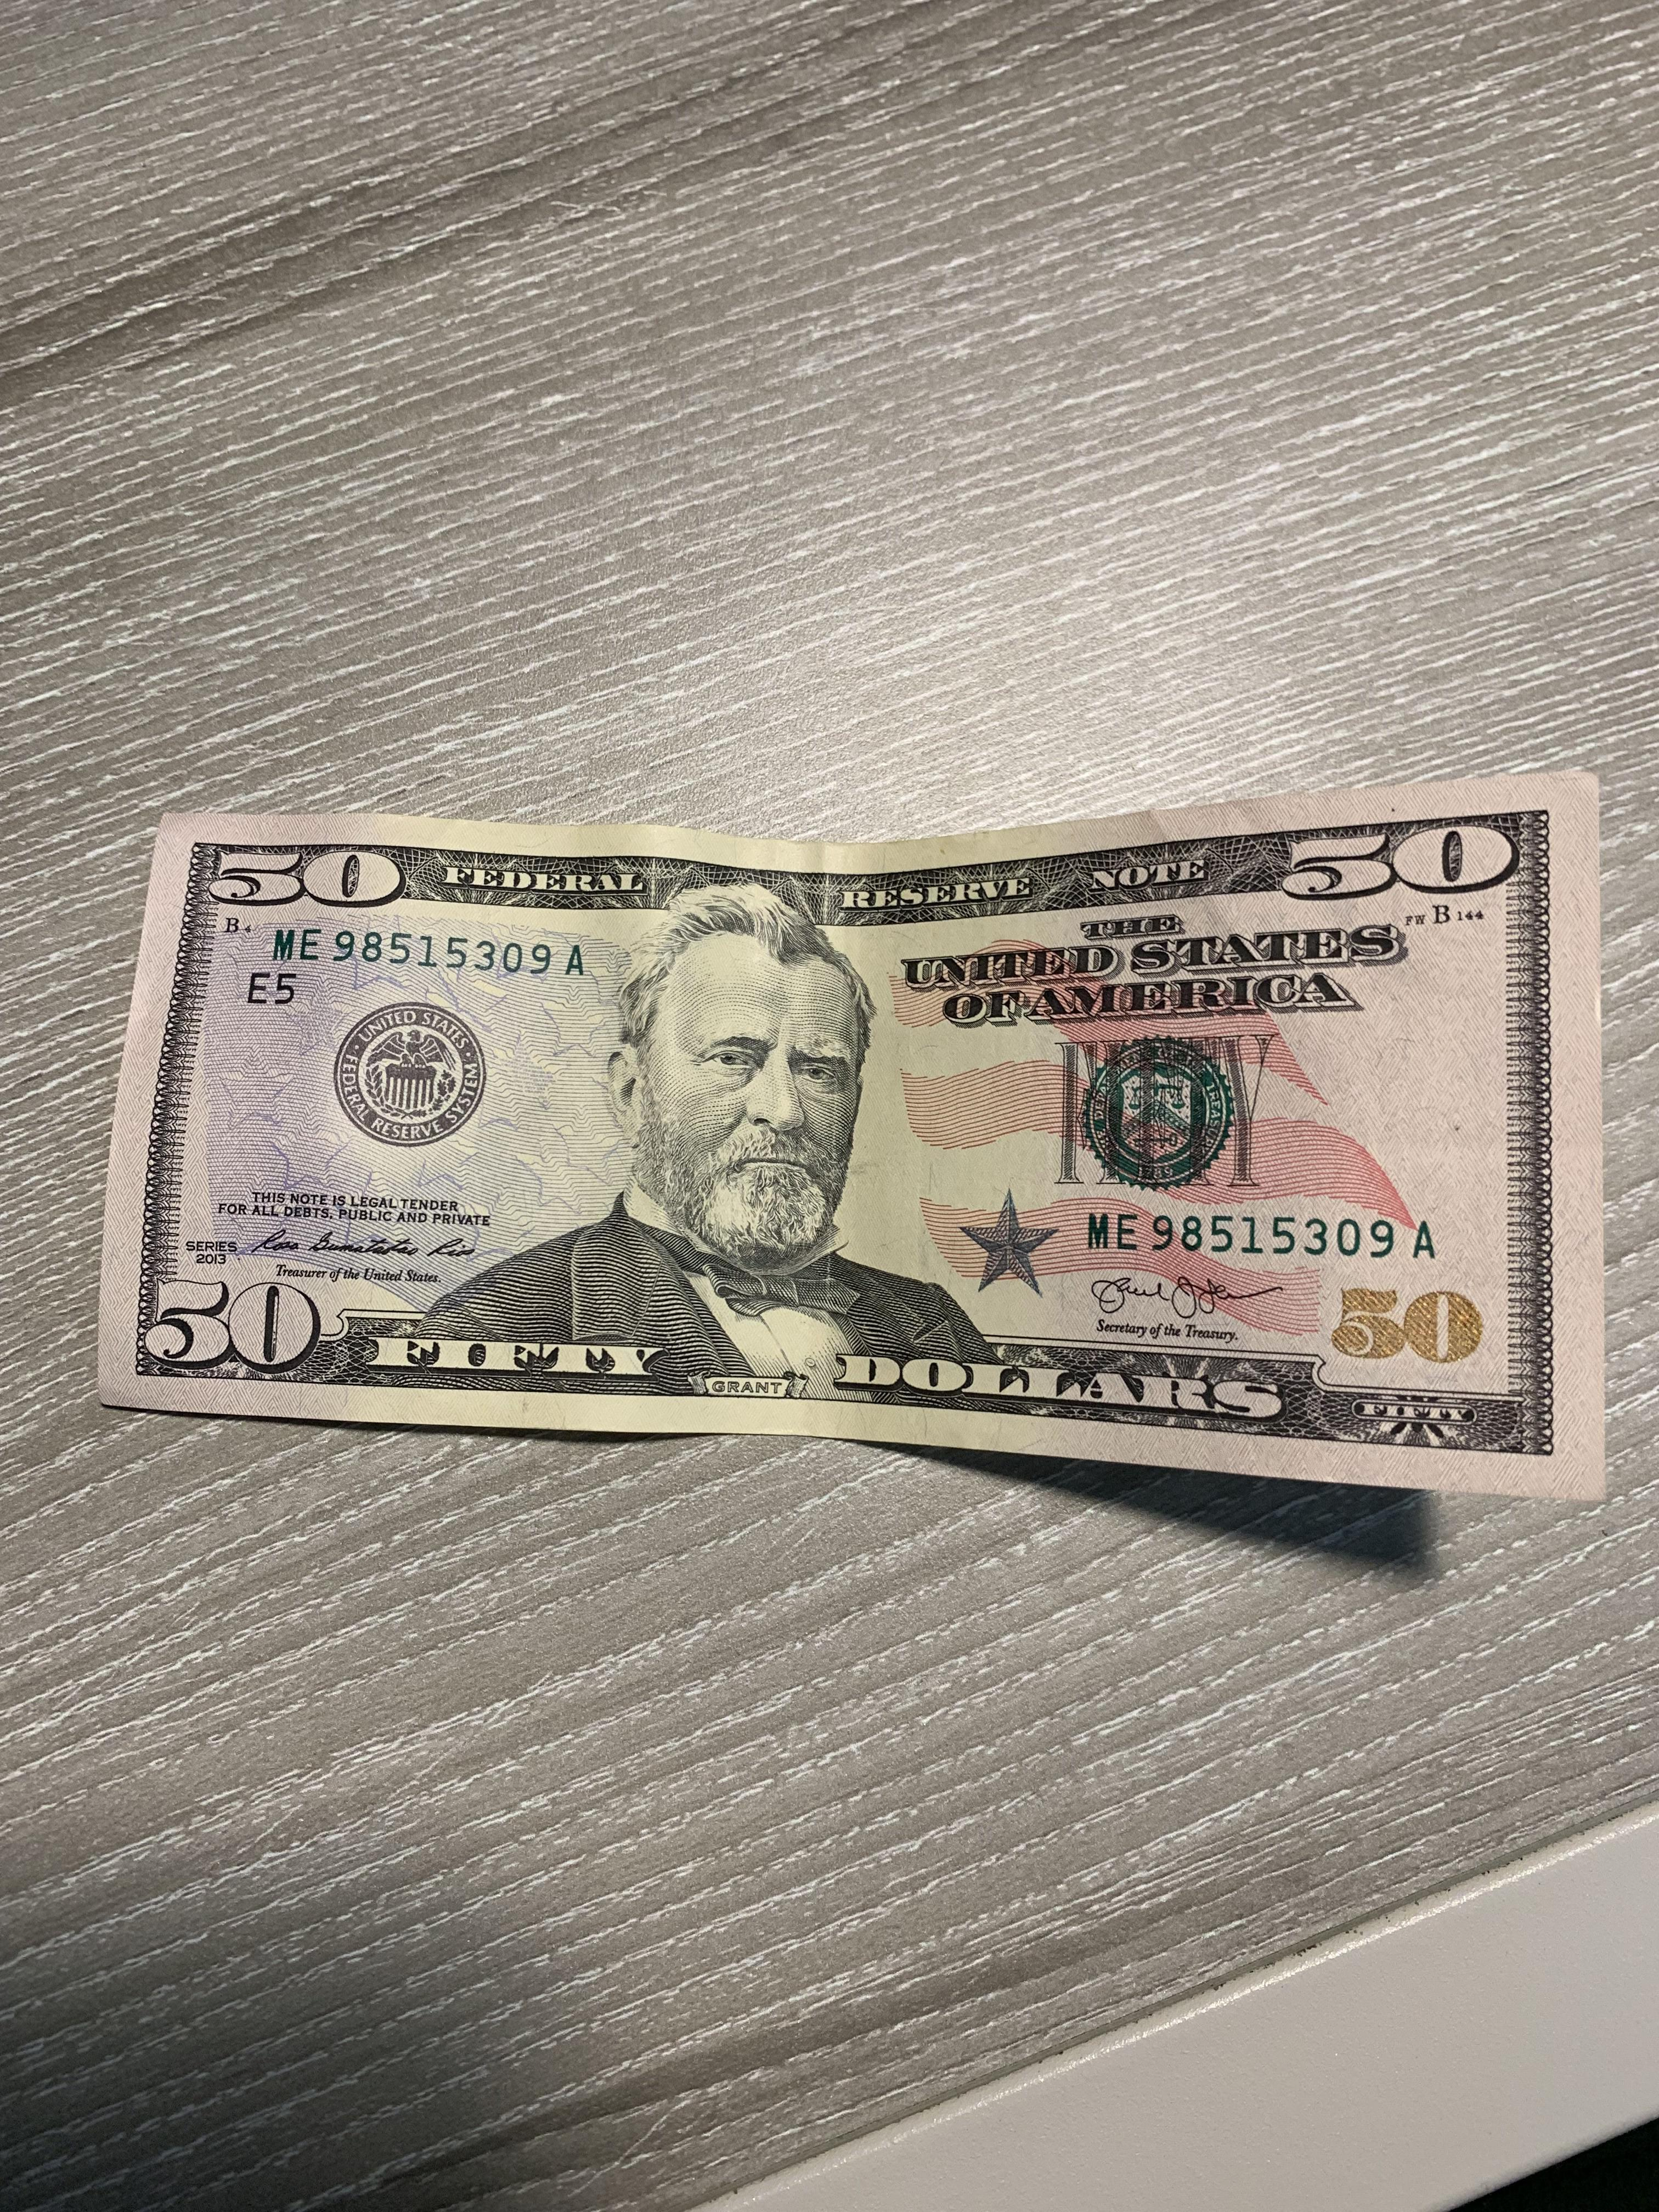FiftyBill: (64, 744, 1640, 1512)
